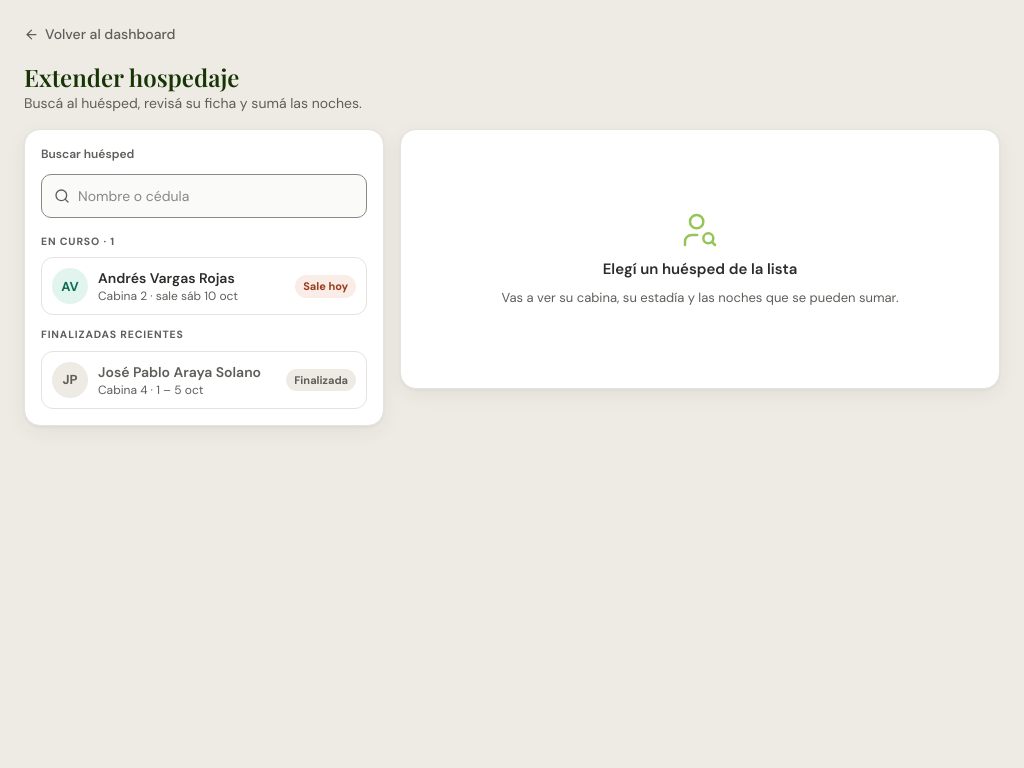
HU-127 pantalla Extender hospedaje › CA-4: una reserva finalizada muestra el mensaje y no permite continuar
What coordinates should you click on to do the following:
click the text "José Pablo Araya Solano"
I would click on:
 (187, 372)
Its box is [98,362,276,382].
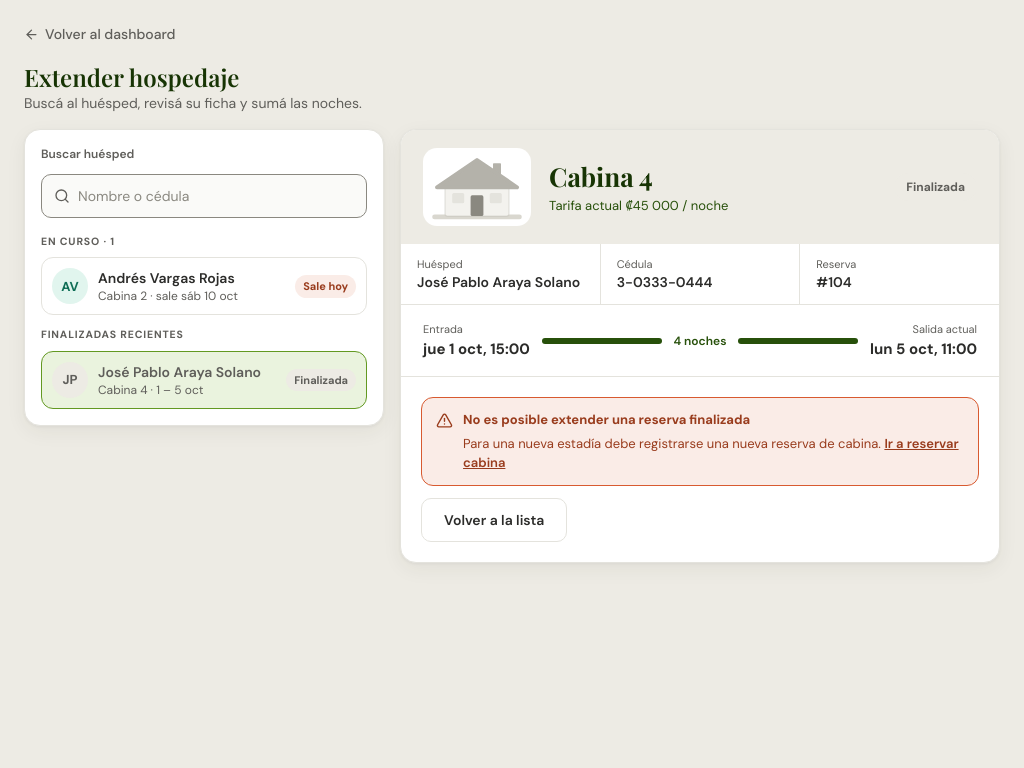
Now the text "No es posible extender una reserva finalizada" is shown, box [463,411,750,428]
